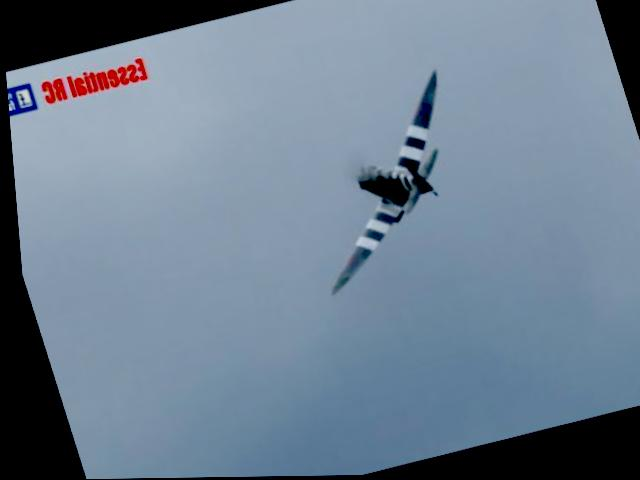uav: (263, 60, 499, 303)
